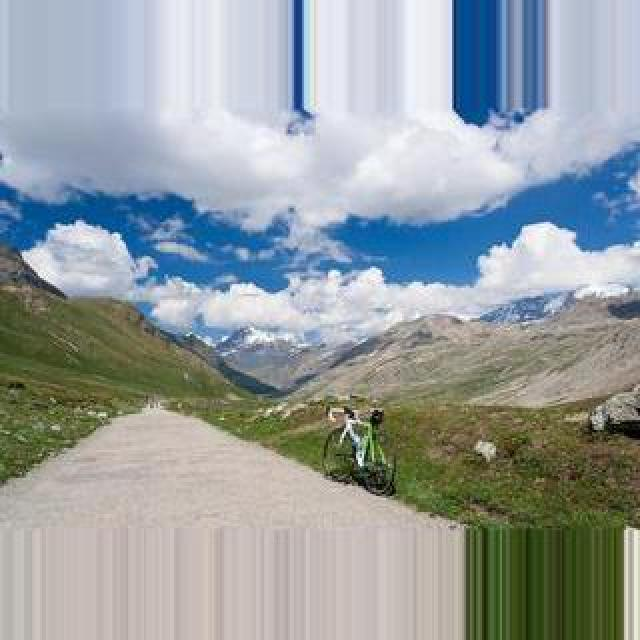Person: (322, 405, 396, 497)
